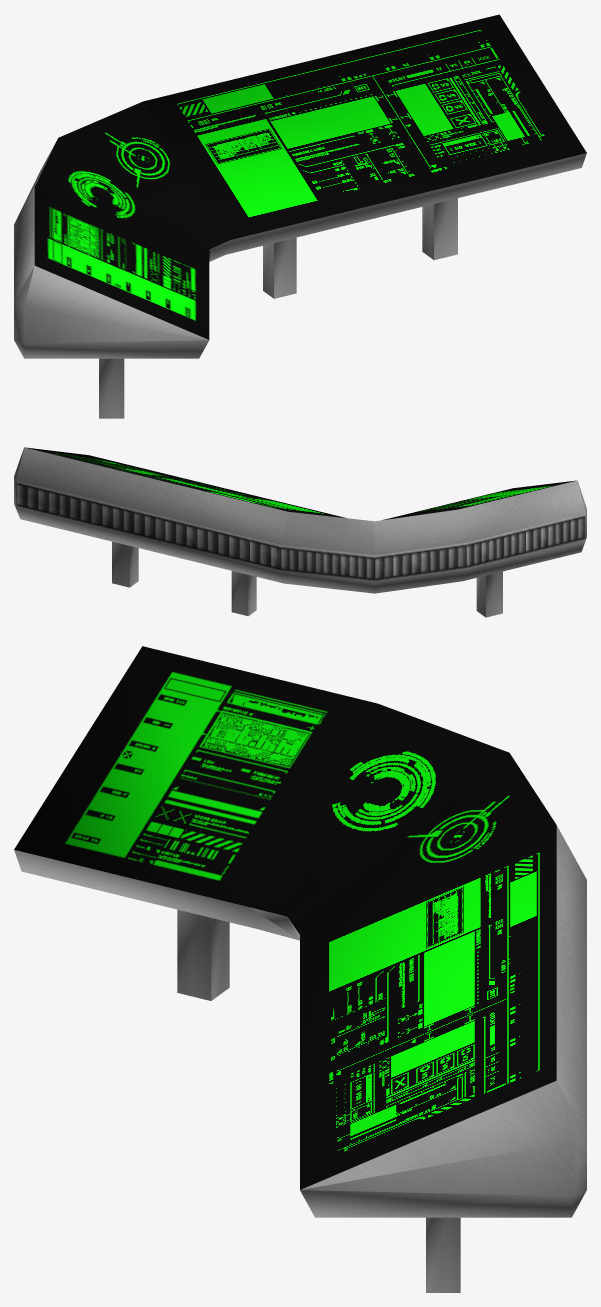
The model's file is console.obj.
3 renders of one model, top to bottom at view 1: azimuth 30°, elevation 25°; view 2: azimuth 150°, elevation 25°; view 3: azimuth 270°, elevation 25°, orthographic. The views are drawn at different scales.
Parts seen in each view (by area): view 1: skin; view 2: skin; view 3: skin.
Boxes of the visible parts, x1=… form: skin: x1=14, y1=14, x2=586, y2=418; skin: x1=14, y1=447, x2=586, y2=617; skin: x1=14, y1=646, x2=586, y2=1292.
Size of the model in its own units: 7.07 by 2 by 3.79.
